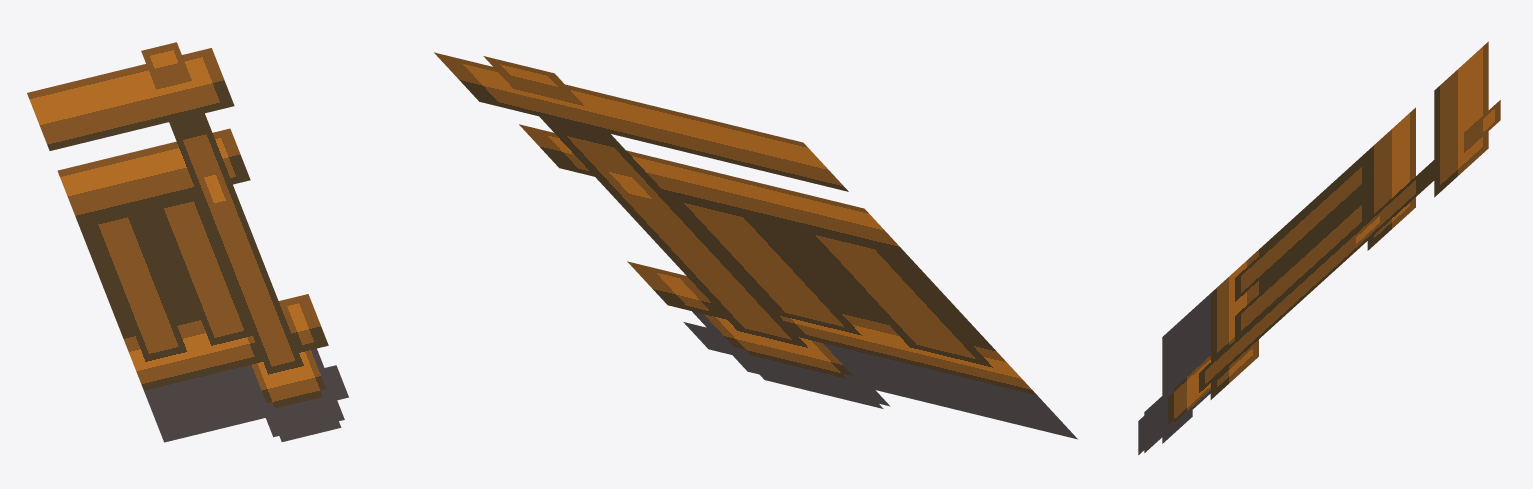
The picture shows the model from 3 angles, left to right: view 1: azimuth 30°, elevation 25°; view 2: azimuth 150°, elevation 25°; view 3: azimuth 270°, elevation 25°; orthographic projection. The views are drawn at different scales.
Bounding box in the file's own units: 0.957 × 1.41 × 1.41.
1 material, 1 textured.
